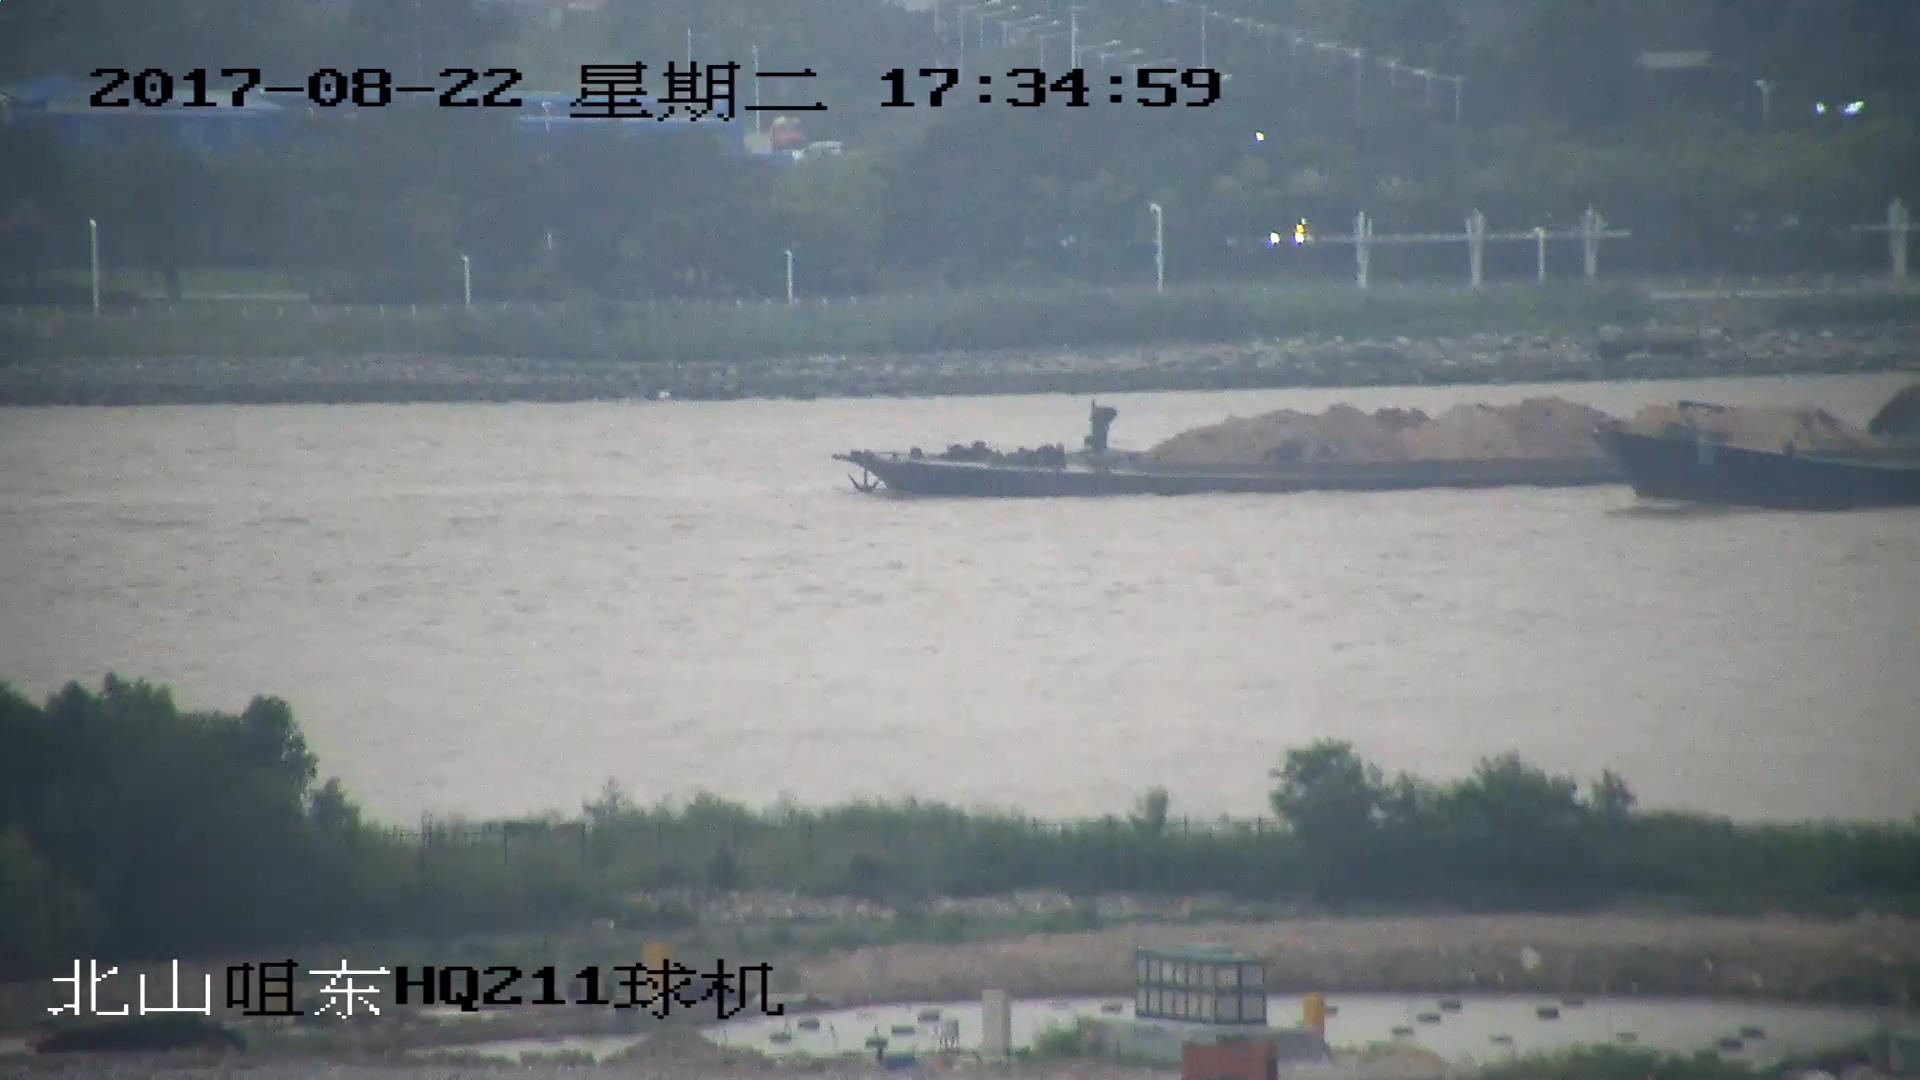fishing boat: (1595, 416, 1920, 510)
ore carrier: (840, 391, 1920, 494)
